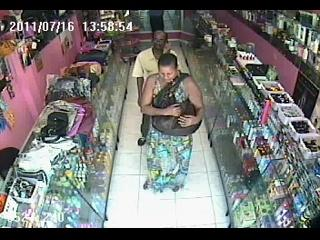Normal: (140, 53, 204, 192), (132, 31, 178, 110), (77, 50, 109, 66)
